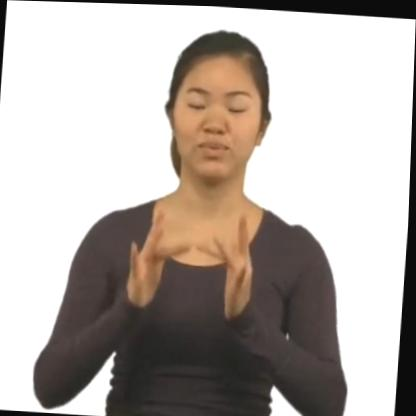Internet: (120, 193, 274, 334)
